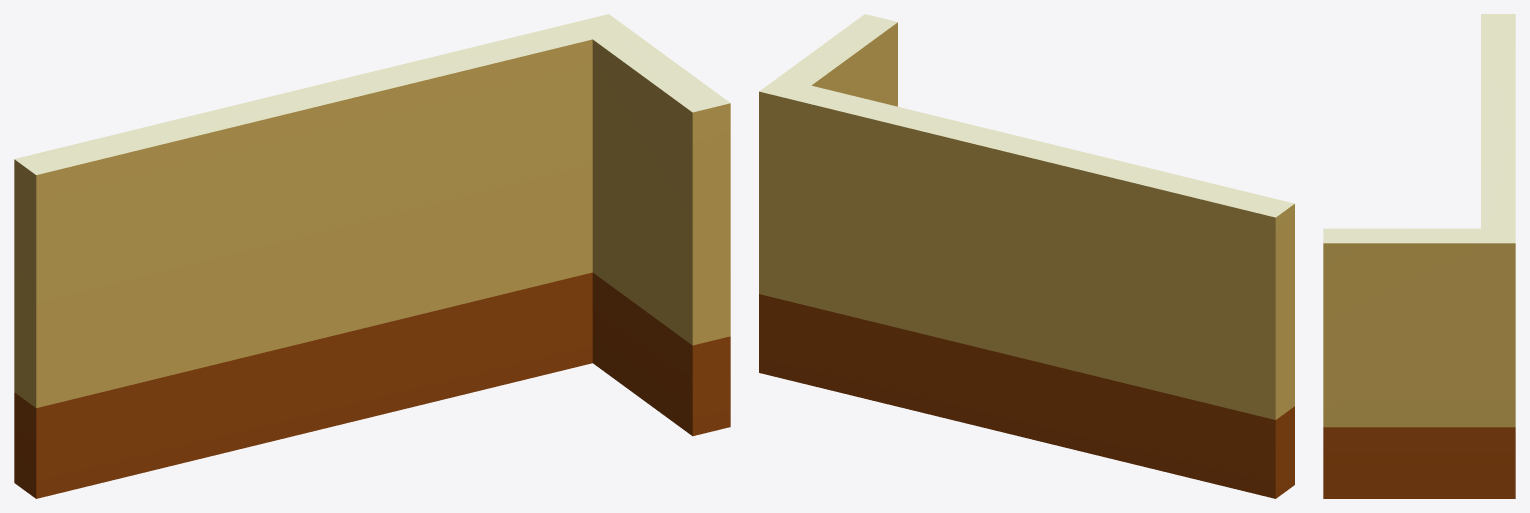
File: Tuong trai 1.002.gltf
The picture shows the model from 3 angles, left to right: view 1: azimuth 30°, elevation 25°; view 2: azimuth 150°, elevation 25°; view 3: azimuth 270°, elevation 25°; orthographic projection. The views are drawn at different scales.
Visible parts, largest first — view 1: Tuong trai 1.002; view 2: Tuong trai 1.002; view 3: Tuong trai 1.002.
Boxes of the visible parts, <box> form: Tuong trai 1.002: <box>14,14,730,498</box>; Tuong trai 1.002: <box>759,14,1294,498</box>; Tuong trai 1.002: <box>1323,14,1515,498</box>.
Bounding box in the file's own units: 18.69 × 9.73 × 6.64.
1 material, 1 textured.
